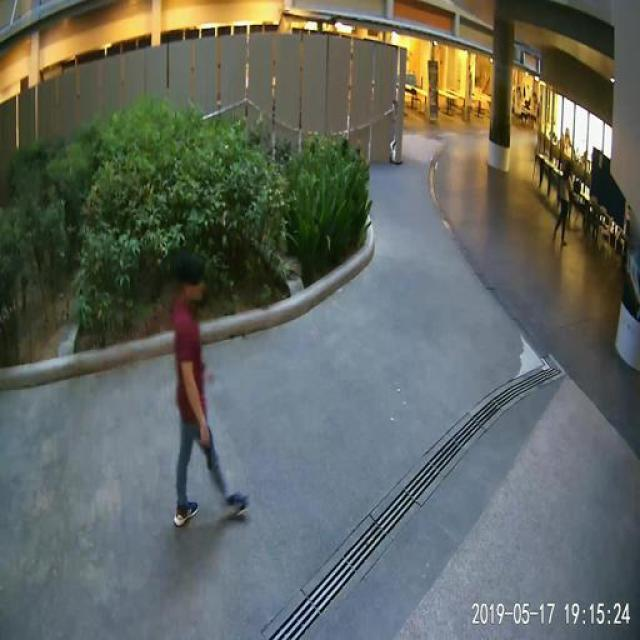Gun: (195, 419, 227, 473)
